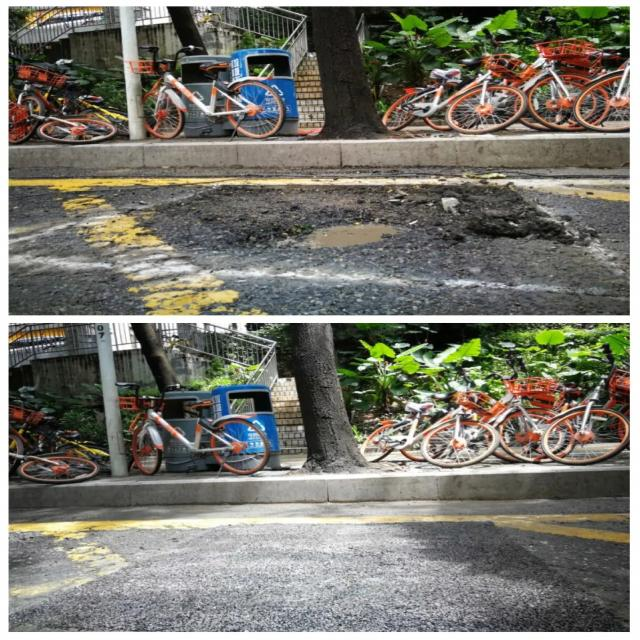Pothole: (438, 208, 596, 258), (262, 208, 412, 260)
